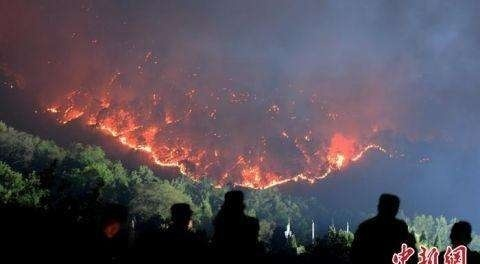fire: (70, 82, 391, 194)
